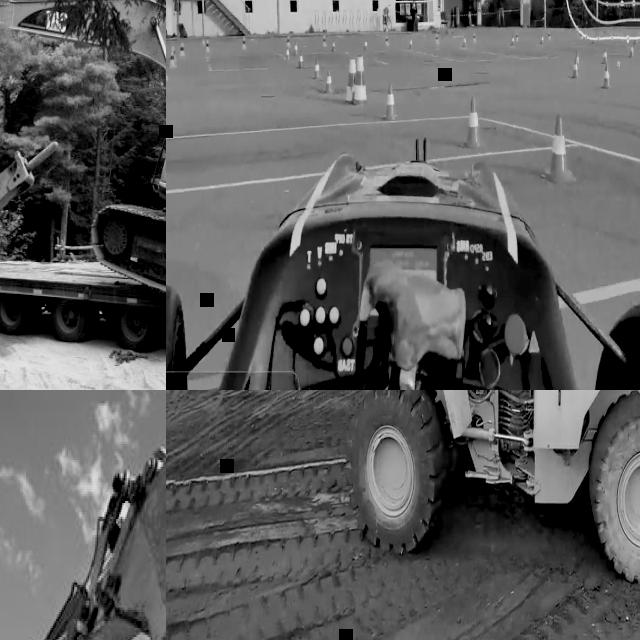Safety Cone: (544, 112, 578, 182), (464, 95, 486, 149), (353, 55, 368, 107), (344, 55, 356, 107), (384, 82, 398, 123), (348, 72, 358, 106), (324, 67, 334, 95), (313, 56, 323, 80), (601, 64, 611, 88), (571, 59, 579, 81), (298, 49, 306, 70), (574, 50, 582, 71), (168, 51, 176, 70), (170, 45, 178, 63), (602, 46, 608, 66), (240, 36, 247, 50), (204, 38, 210, 54), (284, 46, 290, 61), (178, 43, 184, 58), (293, 42, 299, 56), (407, 37, 413, 51), (285, 34, 291, 46), (384, 34, 390, 46), (331, 40, 336, 54), (322, 35, 327, 48), (629, 44, 633, 59), (462, 36, 467, 48), (472, 33, 477, 45), (166, 58, 168, 83), (511, 34, 515, 46), (435, 34, 439, 46), (548, 31, 552, 43), (364, 40, 368, 51), (540, 34, 544, 44), (515, 32, 519, 42)
vehicle: (166, 139, 640, 390), (191, 390, 640, 589), (0, 0, 166, 387), (0, 398, 166, 640), (0, 142, 166, 344)
